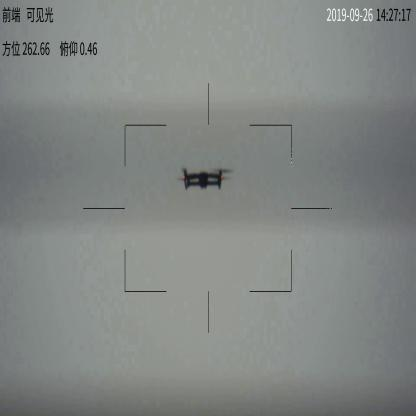uav: (175, 165, 230, 191)
